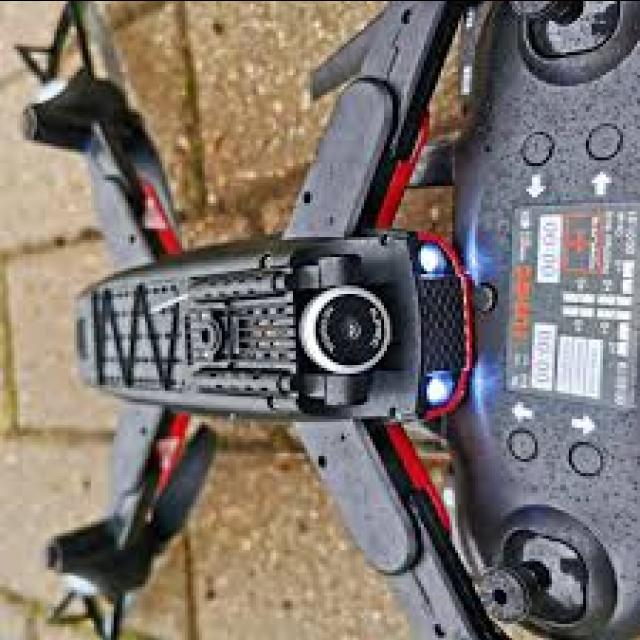drone: (22, 0, 500, 640)
